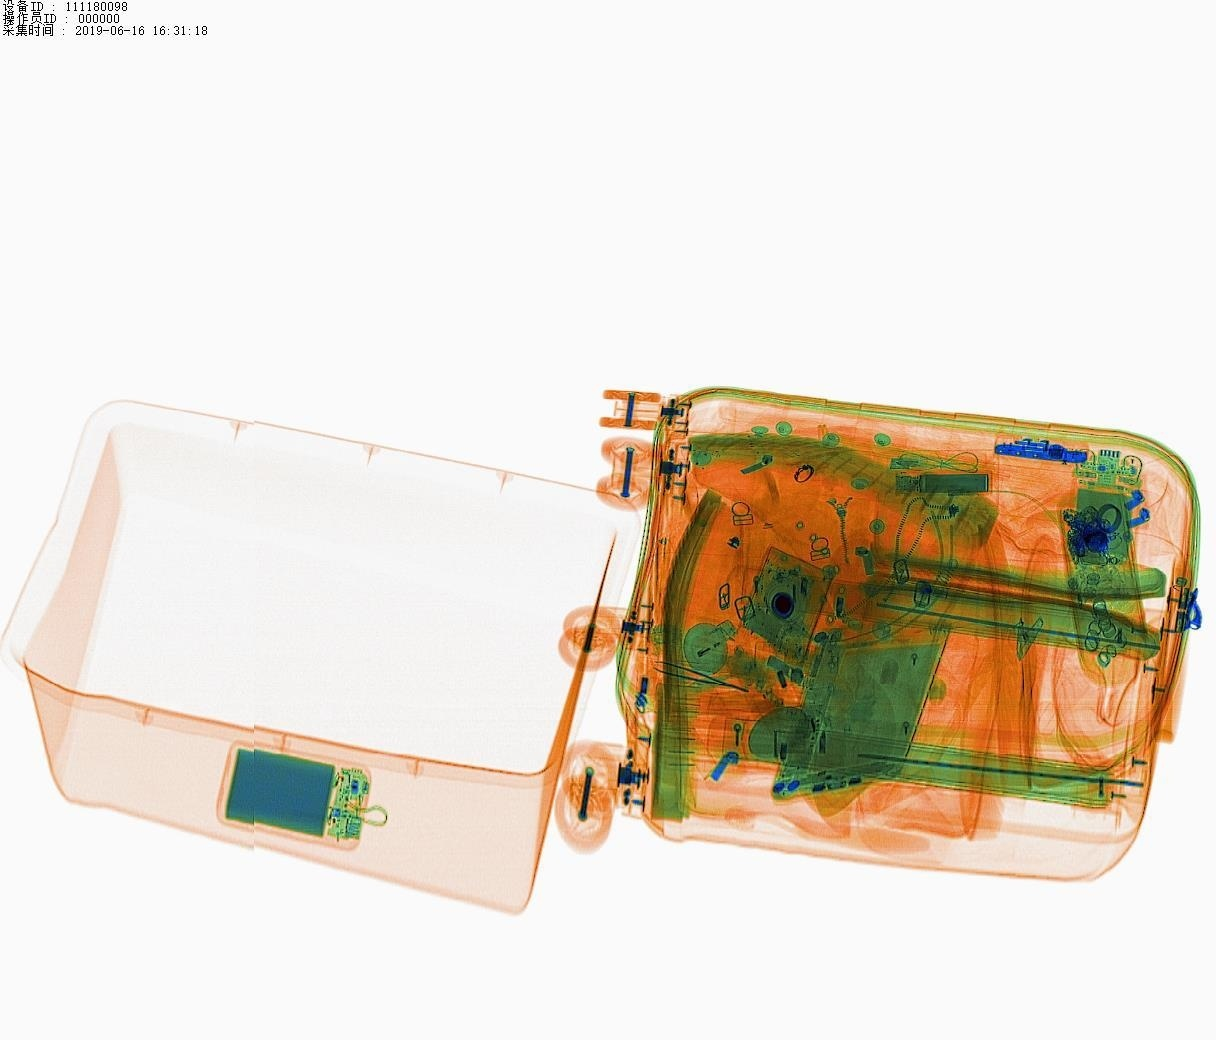NonmetallicFire: (665, 610, 741, 679)
